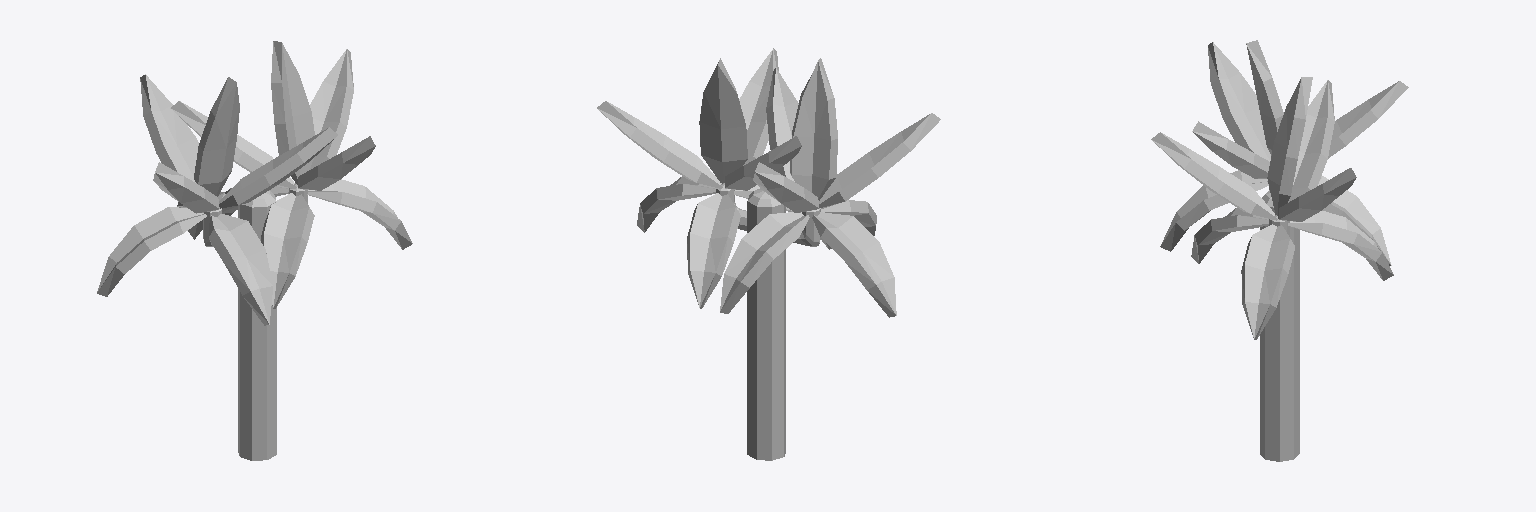
The model's file is yucca_branch_small_B.obj.
3 renders of one model, left to right at view 1: azimuth 30°, elevation 25°; view 2: azimuth 150°, elevation 25°; view 3: azimuth 270°, elevation 25°, orthographic.
Visible parts, largest first — view 1: yucca_branch_small_B; view 2: yucca_branch_small_B; view 3: yucca_branch_small_B.
Boxes of the visible parts, <box> form: yucca_branch_small_B: <box>97,41,412,460</box>; yucca_branch_small_B: <box>597,48,940,460</box>; yucca_branch_small_B: <box>1151,40,1408,461</box>.
Size of the model in its own units: 0.8249 by 1.08 by 0.6393.